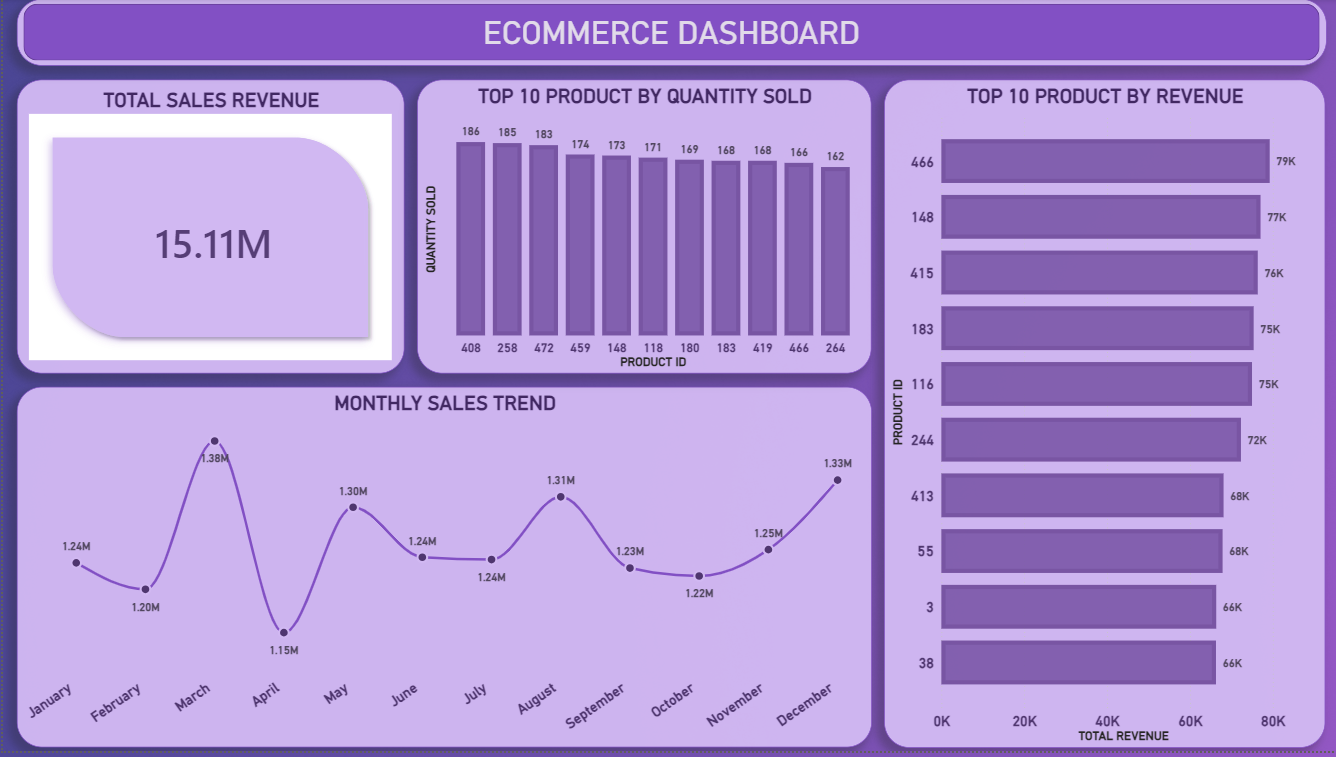

What the dashboard file says about the page in this screenshot:
{"tool":"powerbi","page":{"name":"Page 1","canvas":[1600,900],"ordinal":0},"visuals":[{"type":"cardVisual","title":"TOTAL SALES REVENUE","fields":{"Data":["Sum(fact_sales.total_amount)"]},"box":[16,96,464,352],"z":0},{"type":"clusteredBarChart","title":"TOP 10 PRODUCT BY REVENUE","fields":{"Category":["fact_sales (2).product_id"],"Y":["Sum(fact_sales (2).REVENUE)"]},"box":[1056,96,528,800],"z":1},{"type":"lineChart","title":"MONTHLY SALES TREND","fields":{"Category":["fact_sales.transaction_date.Variation.Date Hierarchy.Month"],"Y":["Sum(fact_sales.total_amount)"]},"box":[16,464,1024,432],"z":2},{"type":"clusteredColumnChart","title":"TOP 10 PRODUCT BY QUANTITY SOLD","fields":{"Category":["fact_sales (3).product_id"],"Y":["Sum(fact_sales (3).Total_Quantity)"]},"box":[496,96,544,352],"z":3},{"type":"shape","box":[16,0,1568,80],"z":4}]}

Visuals, with their boxes in screenshot pixels (x1, y1, x2, y2), scaled from the page's 1600x900 canvas onto the 1336x757 screenshot:
"TOTAL SALES REVENUE" cardVisual: (13,81,401,377)
"TOP 10 PRODUCT BY REVENUE" clusteredBarChart: (882,81,1323,754)
"MONTHLY SALES TREND" lineChart: (13,390,868,754)
"TOP 10 PRODUCT BY QUANTITY SOLD" clusteredColumnChart: (414,81,868,377)
shape: (13,0,1323,67)
